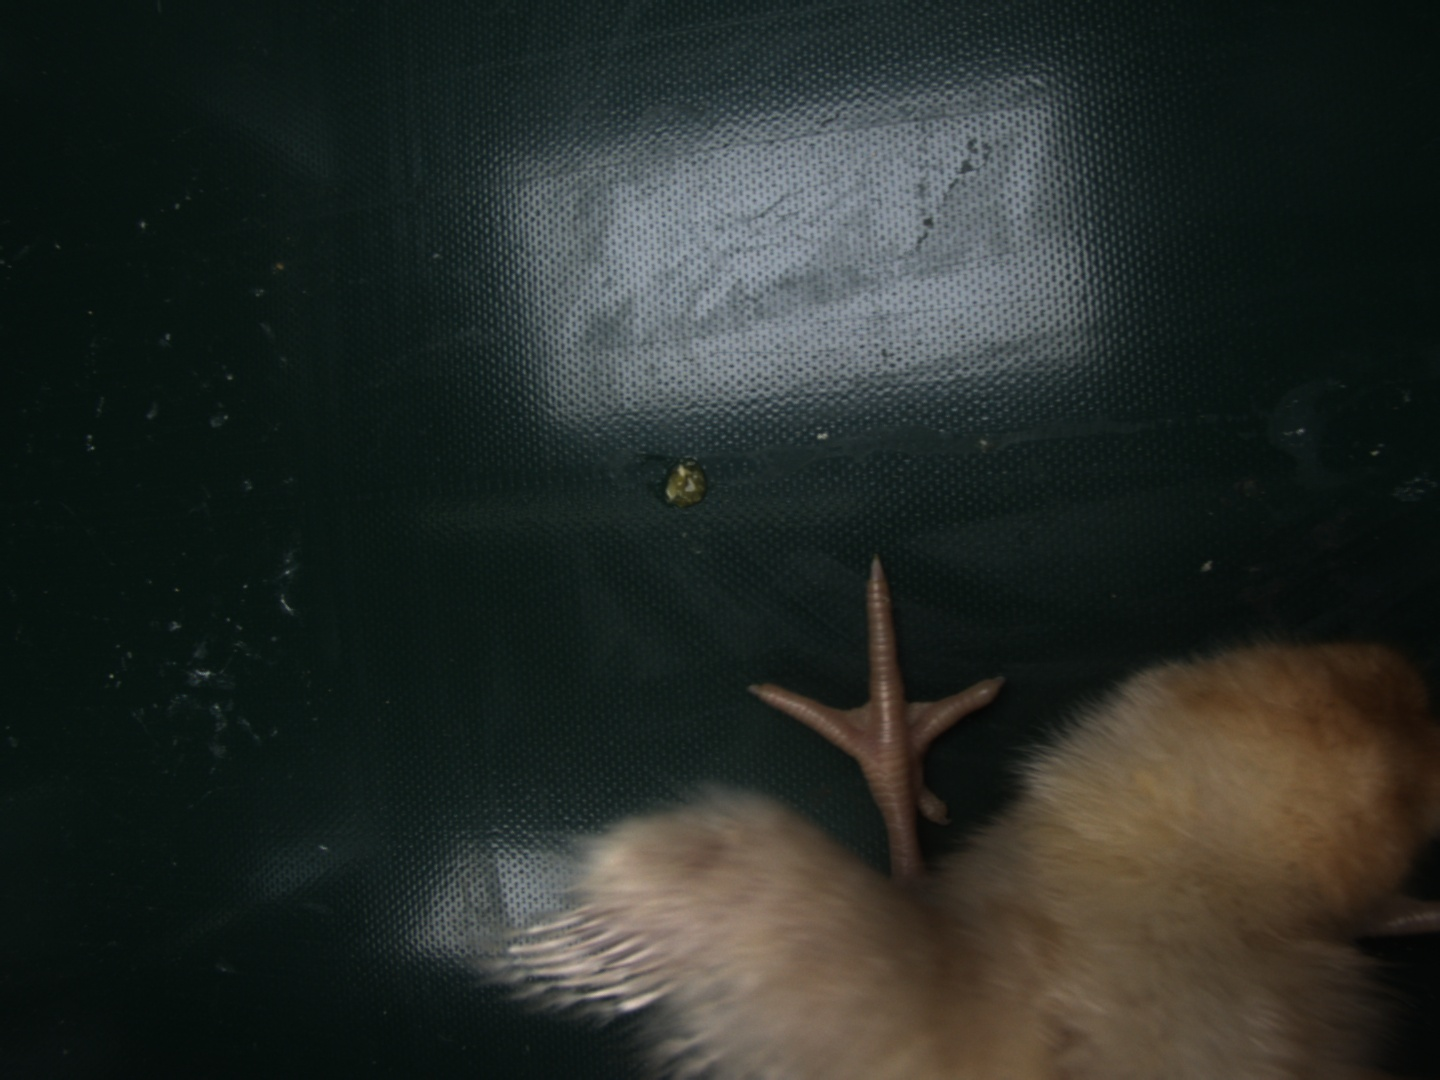female: (510, 903, 674, 1014)
